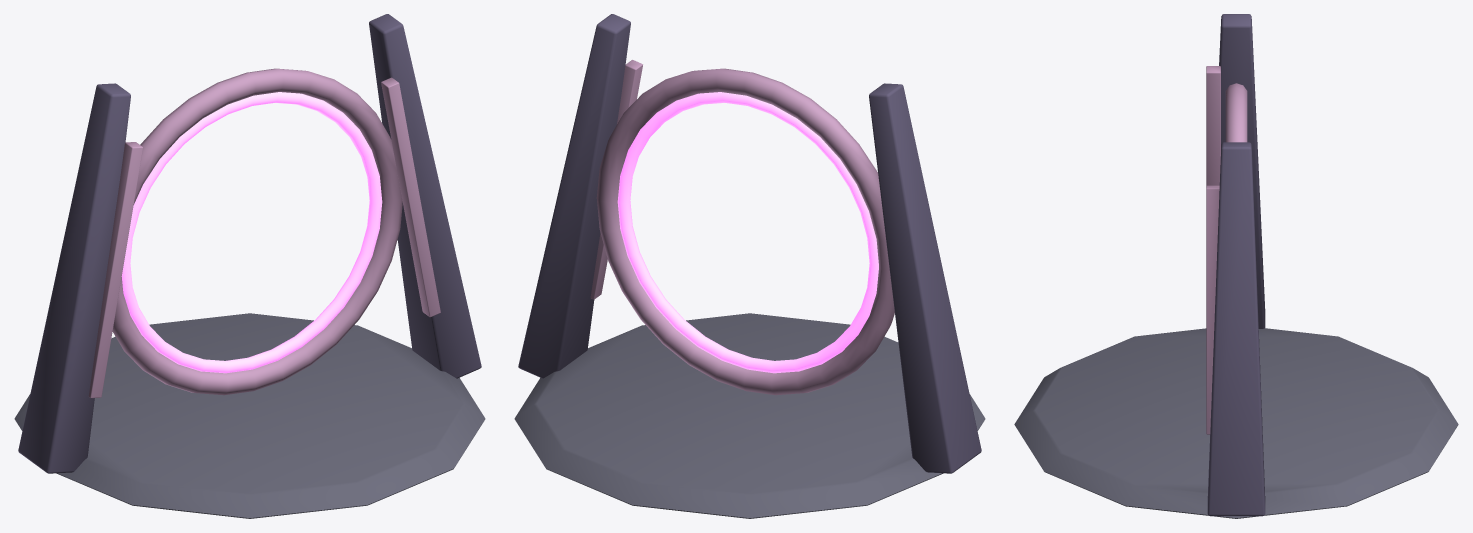
Rendered from void_portal_arch.glb.
The picture shows the model from 3 angles, left to right: view 1: azimuth 30°, elevation 25°; view 2: azimuth 150°, elevation 25°; view 3: azimuth 270°, elevation 25°; orthographic projection. The views are drawn at different scales.
Visible parts, largest first — view 1: PropBody_A3_DarkChrome, PropBody_act3_PropObsidian, PropBody_A3_AbyssBronze, PropBody_act3_PropGlow; view 2: PropBody_A3_DarkChrome, PropBody_act3_PropObsidian, PropBody_A3_AbyssBronze, PropBody_act3_PropGlow; view 3: PropBody_A3_DarkChrome, PropBody_act3_PropObsidian, PropBody_A3_AbyssBronze.
Part boxes in pixels (x1=…): PropBody_A3_DarkChrome: x1=14, y1=313, x2=485, y2=518; PropBody_act3_PropObsidian: x1=18, y1=14, x2=481, y2=473; PropBody_A3_AbyssBronze: x1=88, y1=68, x2=440, y2=398; PropBody_act3_PropGlow: x1=121, y1=92, x2=382, y2=373; PropBody_A3_DarkChrome: x1=514, y1=313, x2=985, y2=518; PropBody_act3_PropObsidian: x1=518, y1=14, x2=981, y2=473; PropBody_A3_AbyssBronze: x1=590, y1=60, x2=894, y2=395; PropBody_act3_PropGlow: x1=617, y1=92, x2=878, y2=373; PropBody_A3_DarkChrome: x1=1014, y1=328, x2=1458, y2=518; PropBody_act3_PropObsidian: x1=1207, y1=14, x2=1265, y2=516; PropBody_A3_AbyssBronze: x1=1206, y1=66, x2=1247, y2=434.
Size of the model in its own units: 4.56 by 3.66 by 4.28.
